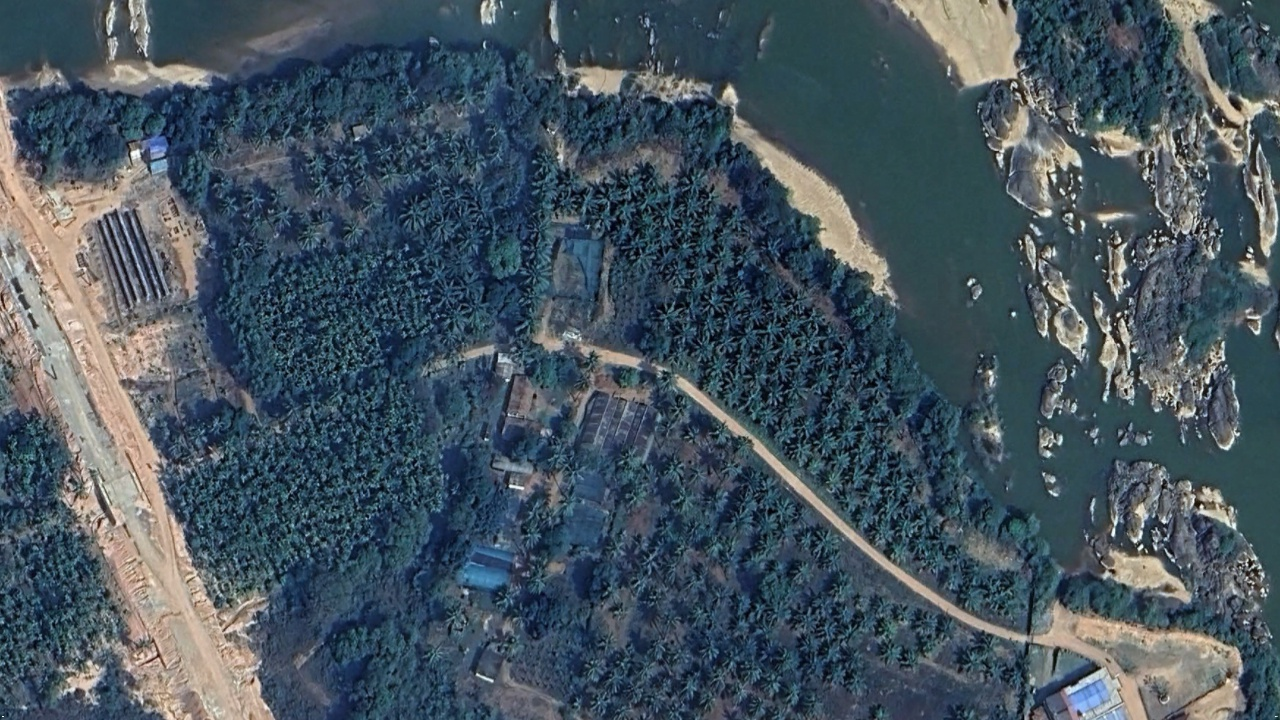arecanut: (188, 262, 401, 543)
